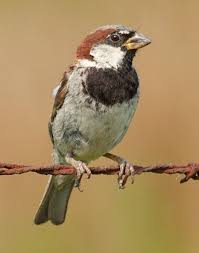hsparrow: (31, 21, 156, 230)
